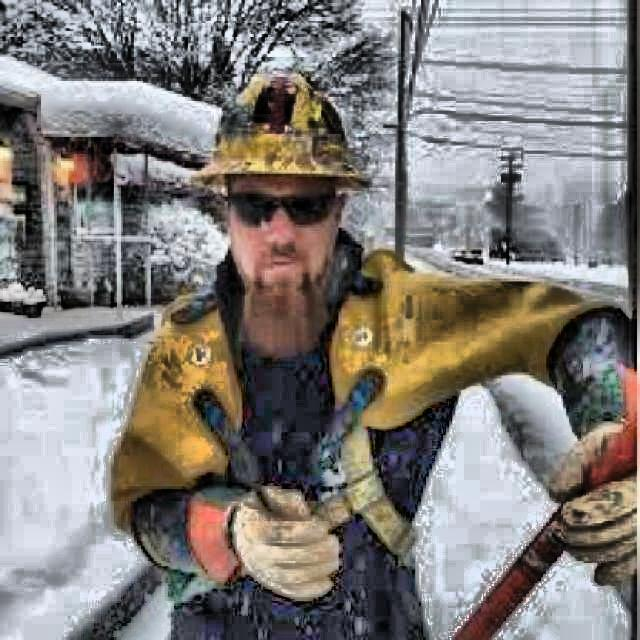safety_jacket: (100, 265, 632, 541)
